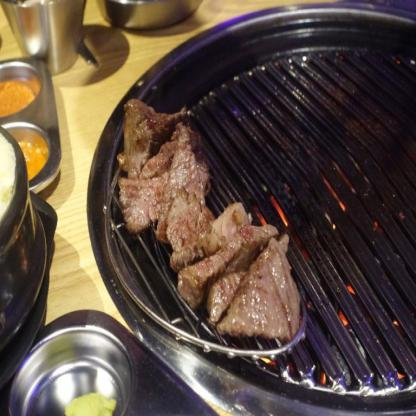Carne: (144, 138, 229, 259), (231, 250, 305, 330), (185, 239, 243, 306), (116, 94, 158, 163)
